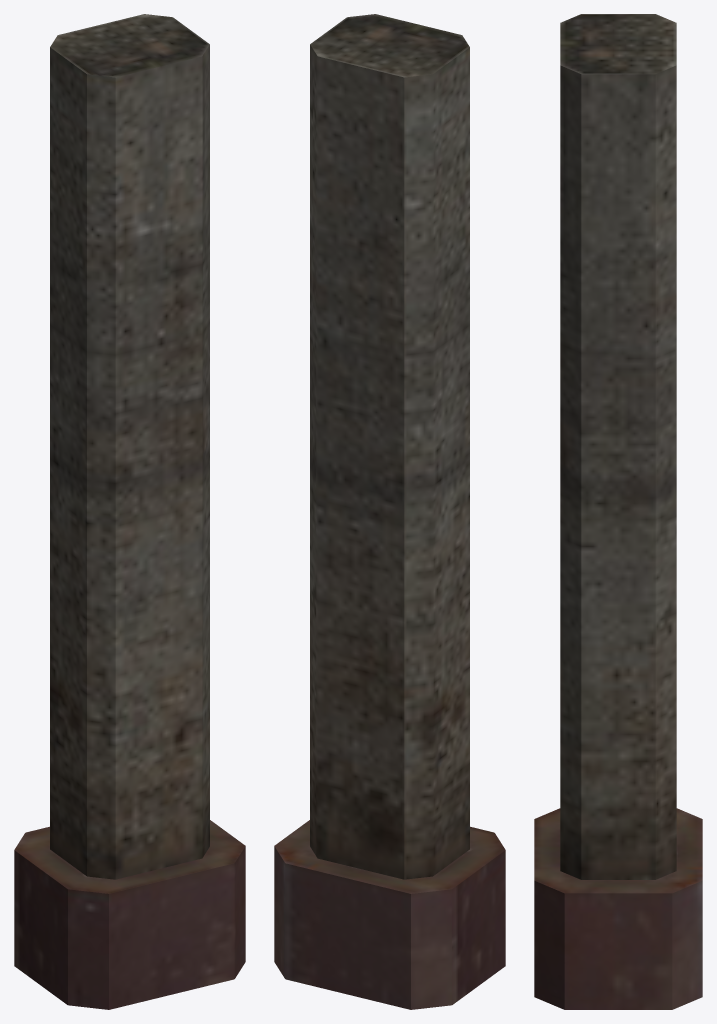
Rendered from ConnectorHolder.FBX.
3 renders of one model, left to right at view 1: azimuth 30°, elevation 25°; view 2: azimuth 150°, elevation 25°; view 3: azimuth 270°, elevation 25°, orthographic.
Parts seen in each view (by area): view 1: ConnectorHolder; view 2: ConnectorHolder; view 3: ConnectorHolder.
Part boxes in pixels (x1,y1,x2,y2): ConnectorHolder: (14, 14, 245, 1009); ConnectorHolder: (274, 14, 505, 1009); ConnectorHolder: (534, 14, 702, 1009).
Bounding box in the file's own units: 21.61 × 107 × 17.62.
